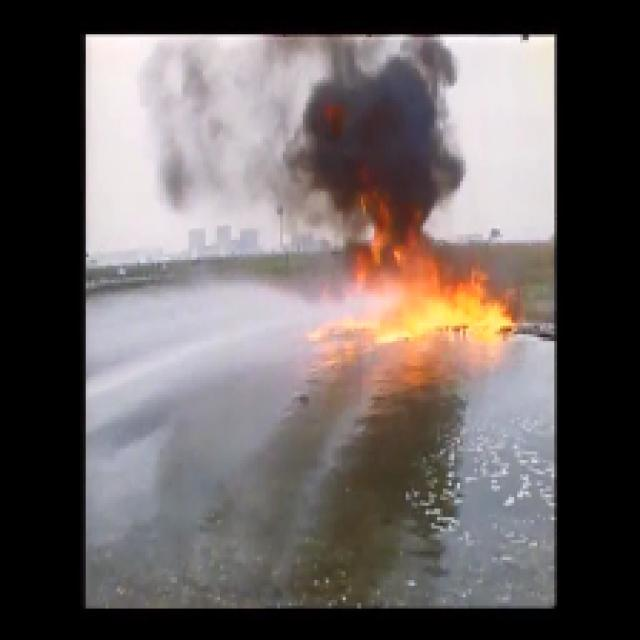fire: (373, 239, 505, 324)
smoke: (316, 72, 432, 196)
